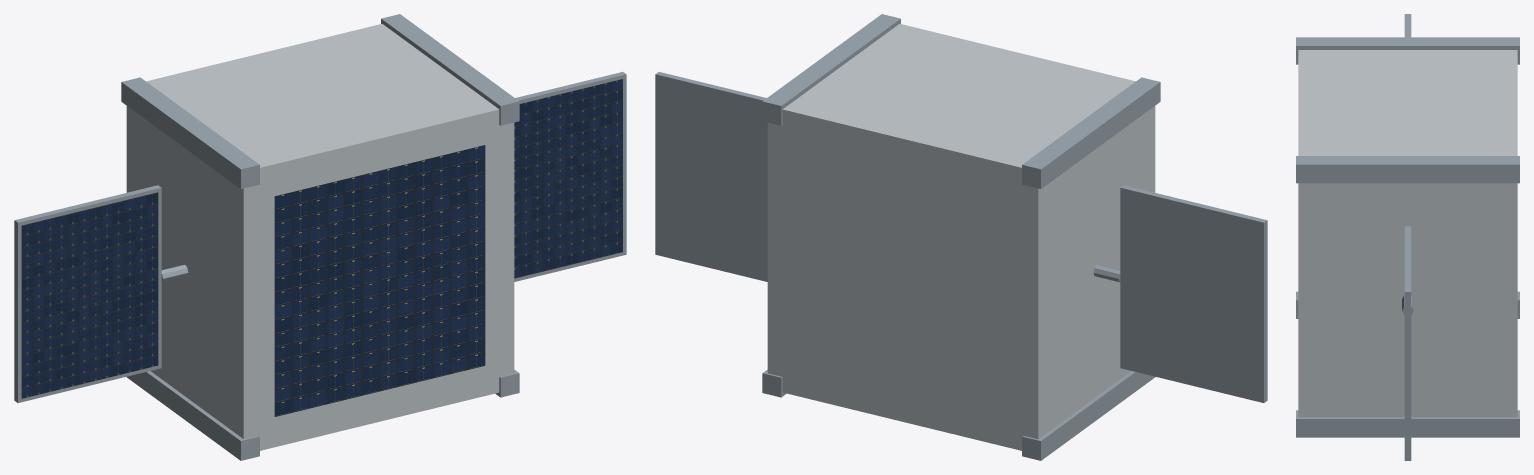
The model's file is ref-cubesat-mp42h-56965.glb.
The picture shows the model from 3 angles, left to right: view 1: azimuth 30°, elevation 25°; view 2: azimuth 150°, elevation 25°; view 3: azimuth 270°, elevation 25°; orthographic projection. The views are drawn at different scales.
Parts seen in each view (by area): view 1: Spacecraft body, Body-mounted cells, Photovoltaic laminates (×2), Dispenser rail (×3), Array frame (×2); view 2: Spacecraft body, Array frame (×2), Dispenser rail (×3); view 3: Spacecraft body, Dispenser rail (×3), Array frame.
Part boxes in pixels (<box>): Spacecraft body: <box>126,24,514,450</box>; Body-mounted cells: <box>274,145,485,416</box>; Photovoltaic laminates (×2): <box>21,79,622,398</box>; Dispenser rail (×3): <box>121,14,519,460</box>; Array frame (×2): <box>14,72,626,402</box>; Spacecraft body: <box>767,24,1155,450</box>; Array frame (×2): <box>655,72,1267,402</box>; Dispenser rail (×3): <box>762,14,1160,460</box>; Spacecraft body: <box>1298,50,1517,417</box>; Dispenser rail (×3): <box>1296,37,1519,437</box>; Array frame: <box>1404,226,1411,460</box>.
Bounding box in the file's own units: 0.9 × 0.412 × 0.306.
Materials: 3 (1 with a texture image).
